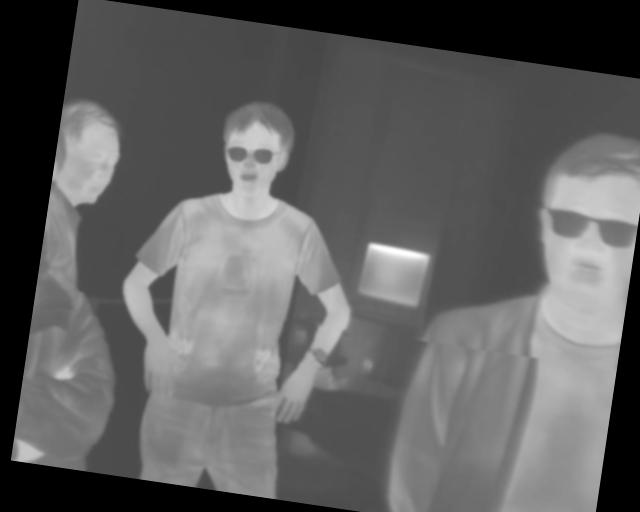face: (523, 122, 640, 315), (215, 95, 298, 200)
